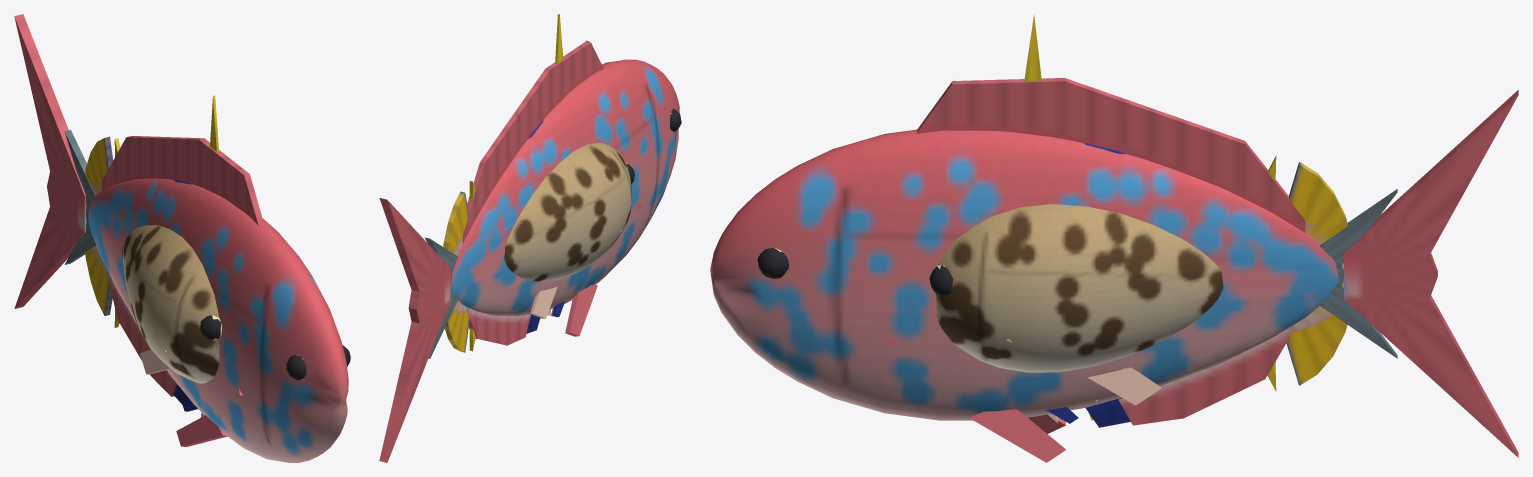
The model's file is fish.glb.
The picture shows the model from 3 angles, left to right: view 1: azimuth 30°, elevation 25°; view 2: azimuth 150°, elevation 25°; view 3: azimuth 270°, elevation 25°; orthographic projection. The views are drawn at different scales.
Visible parts, largest first — view 1: Fish_RedSeaBream, Fish_Pufferfish, Fish_EmperorAngelfish, Fish_Mackerel, Fish_Lionfish, Fish_Bannerfish; view 2: Fish_RedSeaBream, Fish_Pufferfish, Fish_EmperorAngelfish, Fish_Mackerel, Fish_Lionfish, Fish_Bannerfish; view 3: Fish_RedSeaBream, Fish_Pufferfish, Fish_EmperorAngelfish, Fish_Mackerel, Fish_Lionfish, Fish_Bannerfish.
Boxes of the visible parts, x1,y1,x2,y2 form: Fish_RedSeaBream: (14,14,350,462); Fish_Pufferfish: (122,225,221,383); Fish_EmperorAngelfish: (85,136,197,411); Fish_Mackerel: (64,129,95,264); Fish_Lionfish: (86,171,247,417); Fish_Bannerfish: (114,95,218,327); Fish_RedSeaBream: (379,41,681,462); Fish_Pufferfish: (504,143,634,281); Fish_EmperorAngelfish: (443,120,564,352); Fish_Mackerel: (424,237,458,358); Fish_Lionfish: (453,40,589,318); Fish_Bannerfish: (469,14,563,351); Fish_RedSeaBream: (710,78,1518,462); Fish_Pufferfish: (929,204,1223,372); Fish_EmperorAngelfish: (1046,143,1347,427); Fish_Mackerel: (1319,189,1397,358); Fish_Lionfish: (954,79,1343,423); Fish_Bannerfish: (1024,14,1276,420).
Bounding box in the file's own units: 0.1135 × 0.3008 × 0.5.
3 materials, 1 textured.
